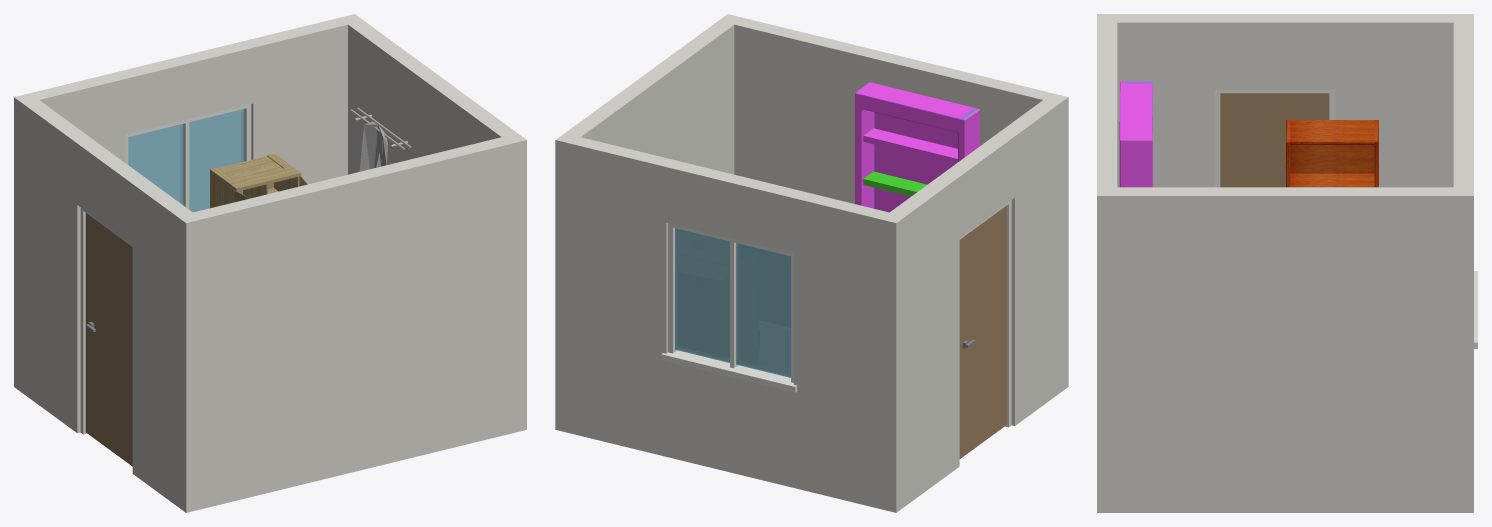
File: holodeck.glb
3 views of the same model, side by side, from view 1: azimuth 30°, elevation 25°; view 2: azimuth 150°, elevation 25°; view 3: azimuth 270°, elevation 25° (orthographic). The views are drawn at different scales.
Parts seen in each view (by area): view 1: wall|scenesmith_059__R00|0, wall|scenesmith_059__R00|2, wall|scenesmith_059__R00|1, wall|scenesmith_059__R00|3, wall|scenesmith_059__R00|2 Door 0 | wood leaf, wall|scenesmith_059__R00|1 Window 0 | glazing, scenesmith_059__R00_0, wall|scenesmith_059__R00|1 Window 0 | jamb, scenesmith_059__R00_6, wall|scenesmith_059__R00|2 Door 0 | jamb; view 2: wall|scenesmith_059__R00|1, wall|scenesmith_059__R00|2, wall|scenesmith_059__R00|0, wall|scenesmith_059__R00|3, wall|scenesmith_059__R00|1 Window 0 | glazing, scenesmith_059__R00_5, wall|scenesmith_059__R00|2 Door 0 | wood leaf, wall|scenesmith_059__R00|1 Window 0 | jamb, wall|scenesmith_059__R00|2 Door 0 | jamb; view 3: wall|scenesmith_059__R00|3, wall|scenesmith_059__R00|2, wall|scenesmith_059__R00|0, wall|scenesmith_059__R00|2 Door 0 | wood leaf, scenesmith_059__R00_3, wall|scenesmith_059__R00|1, scenesmith_059__R00_5, wall|scenesmith_059__R00|2 Door 0 | jamb.
Part boxes in pixels (bbox=[...]): wall|scenesmith_059__R00|0: bbox=[177, 133, 526, 512]; wall|scenesmith_059__R00|2: bbox=[23, 100, 201, 511]; wall|scenesmith_059__R00|1: bbox=[14, 14, 363, 393]; wall|scenesmith_059__R00|3: bbox=[348, 21, 517, 174]; wall|scenesmith_059__R00|2 Door 0 | wood leaf: bbox=[85, 213, 132, 466]; wall|scenesmith_059__R00|1 Window 0 | glazing: bbox=[128, 109, 244, 212]; scenesmith_059__R00_0: bbox=[210, 153, 307, 208]; wall|scenesmith_059__R00|1 Window 0 | jamb: bbox=[125, 104, 251, 209]; scenesmith_059__R00_6: bbox=[350, 107, 411, 171]; wall|scenesmith_059__R00|2 Door 0 | jamb: bbox=[80, 207, 132, 434]; wall|scenesmith_059__R00|1: bbox=[556, 133, 905, 512]; wall|scenesmith_059__R00|2: bbox=[880, 93, 1067, 512]; wall|scenesmith_059__R00|0: bbox=[718, 14, 1068, 393]; wall|scenesmith_059__R00|3: bbox=[555, 18, 741, 433]; wall|scenesmith_059__R00|1 Window 0 | glazing: bbox=[675, 228, 790, 377]; scenesmith_059__R00_5: bbox=[855, 82, 979, 212]; wall|scenesmith_059__R00|2 Door 0 | wood leaf: bbox=[959, 206, 1006, 458]; wall|scenesmith_059__R00|1 Window 0 | jamb: bbox=[661, 223, 797, 392]; wall|scenesmith_059__R00|2 Door 0 | jamb: bbox=[959, 200, 1011, 427]; wall|scenesmith_059__R00|3: bbox=[1097, 187, 1473, 512]; wall|scenesmith_059__R00|2: bbox=[1097, 14, 1453, 187]; wall|scenesmith_059__R00|0: bbox=[1097, 22, 1117, 512]; wall|scenesmith_059__R00|2 Door 0 | wood leaf: bbox=[1220, 93, 1329, 187]; scenesmith_059__R00_3: bbox=[1286, 119, 1378, 187]; wall|scenesmith_059__R00|1: bbox=[1453, 14, 1473, 420]; scenesmith_059__R00_5: bbox=[1119, 81, 1152, 187]; wall|scenesmith_059__R00|2 Door 0 | jamb: bbox=[1214, 89, 1335, 187].
Bounding box in the file's own units: 3.2 × 2.61 × 2.83.
13 materials, 7 textured.
